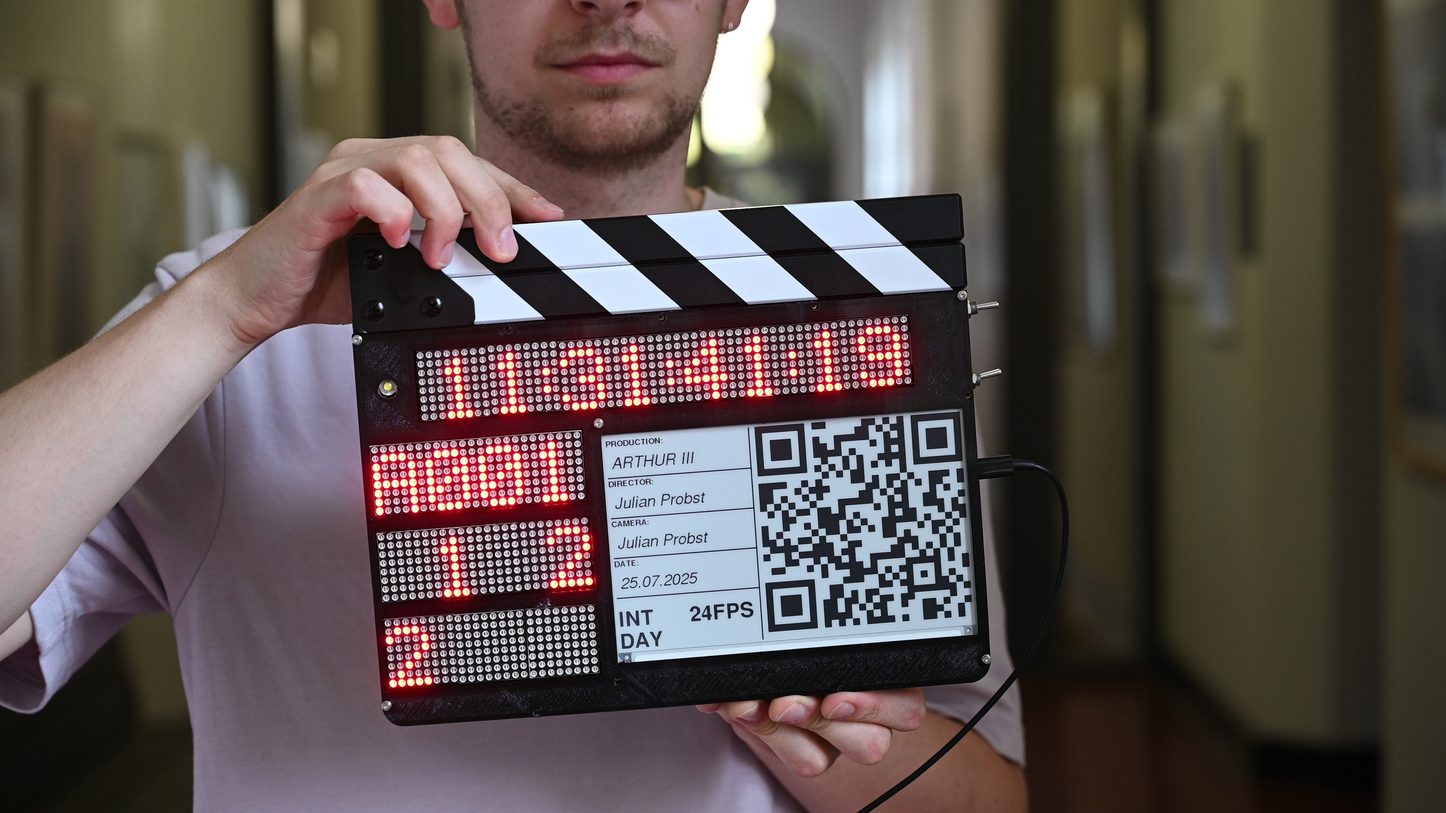ARC-SLATE: (347, 239, 991, 732)
